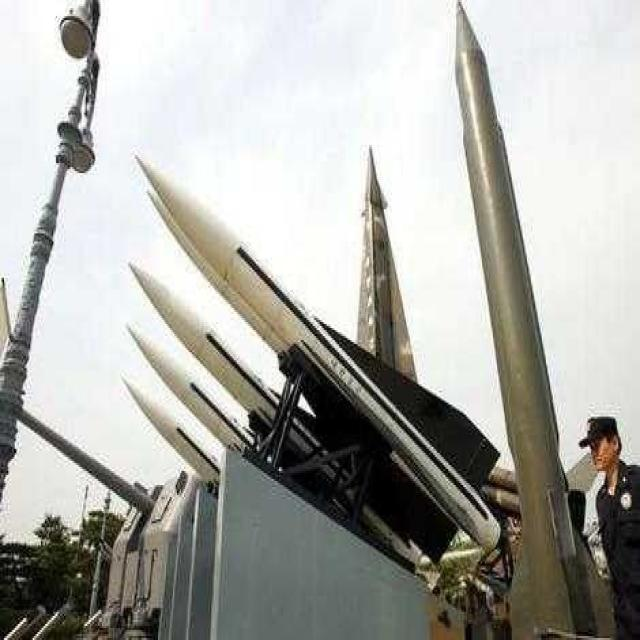missile: (134, 147, 504, 553), (448, 1, 614, 640), (132, 263, 438, 571)
